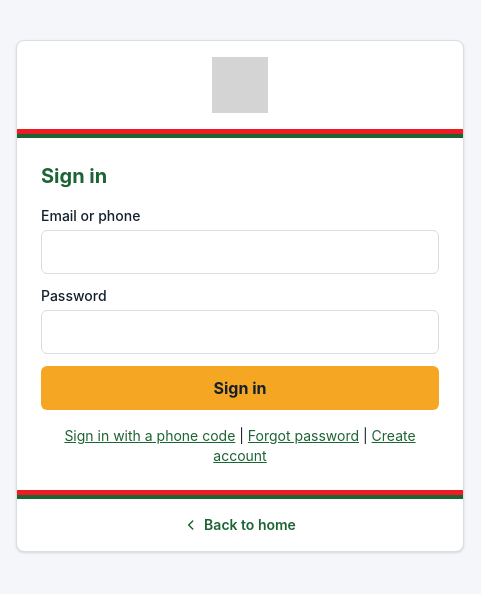
Test: sign in › shows the server message for a wrong password
Step 1. Type "admin@tcoinug.com" into the field labelled "Email or phone" → (240, 252), box [41,230,439,274]
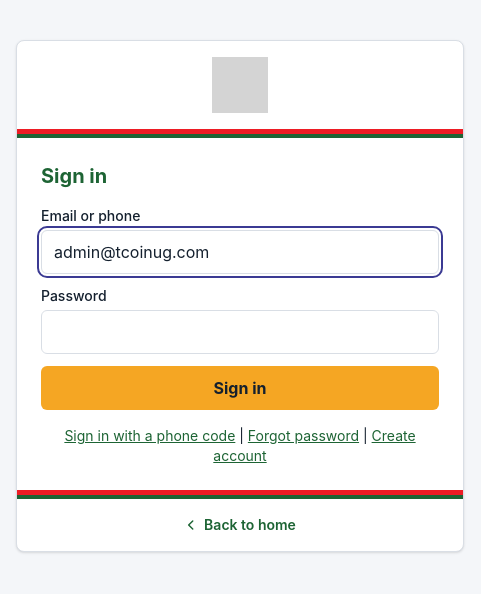
Step 2. Type "nope" into the password field labelled "Password" → (240, 332), box [41,310,439,354]
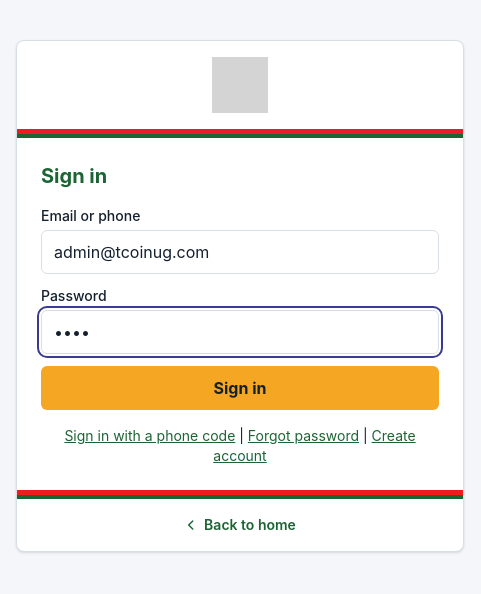
Step 3. Click the button "Sign in" → (240, 388), box [41,366,439,410]
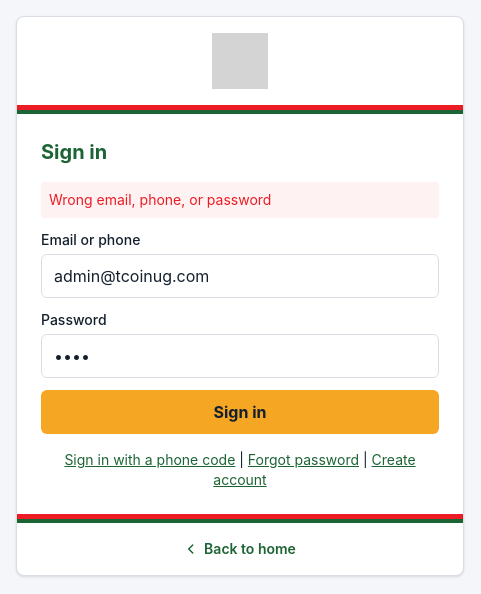
Expected: the text "Wrong email, phone, or password" is shown, [41,182,439,218]
